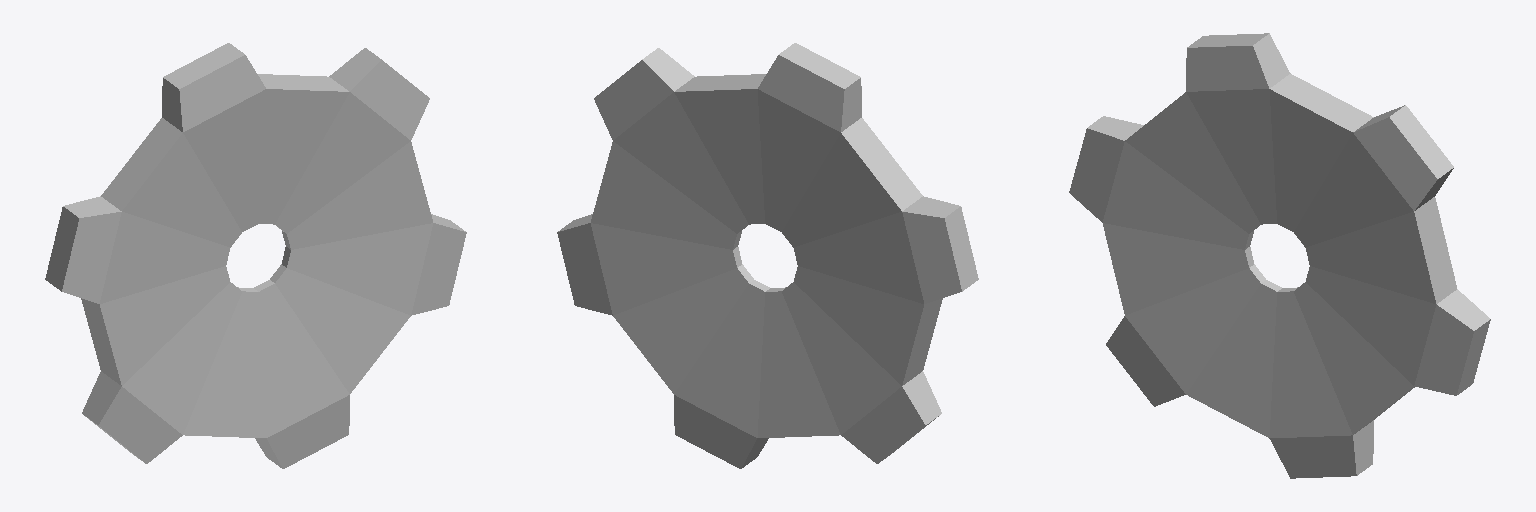
Rendered from Gear.obj.
3 views of the same model, side by side, from view 1: azimuth 30°, elevation 25°; view 2: azimuth 150°, elevation 25°; view 3: azimuth 330°, elevation 25° (orthographic).
Parts seen in each view (by area): view 1: Gear; view 2: Gear; view 3: Gear.
Boxes of the visible parts, box(x1,y1,x2,y2) form: Gear: box(45, 43, 466, 468); Gear: box(557, 43, 978, 468); Gear: box(1069, 33, 1490, 478).
Size of the model in its own units: 20.8 by 20.8 by 1.87.